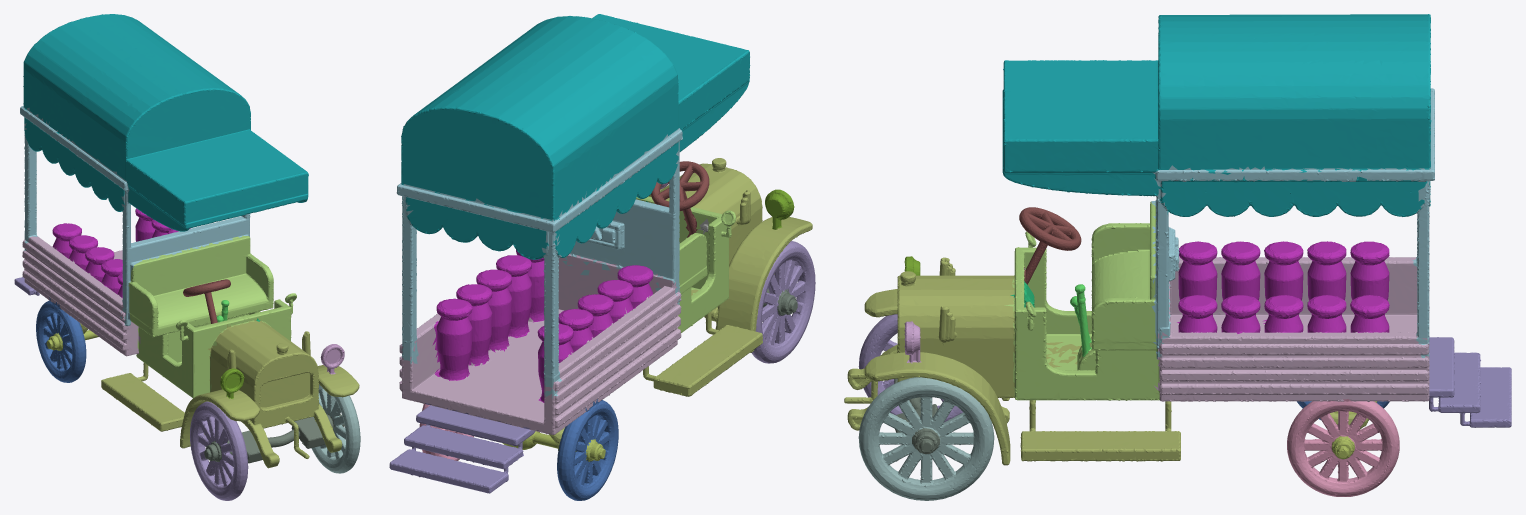
The picture shows the model from 3 angles, left to right: view 1: azimuth 30°, elevation 25°; view 2: azimuth 150°, elevation 25°; view 3: azimuth 270°, elevation 25°; orthographic projection. The views are drawn at different scales.
Visible parts, largest first — view 1: world; view 2: world; view 3: world.
Part boxes in pixels (left/top/right/bottom): world: left=14, top=14, right=360, bottom=500; world: left=389, top=14, right=815, bottom=500; world: left=844, top=14, right=1511, bottom=500.
Size of the model in its own units: 0.7283 by 1.37 by 1.91.
